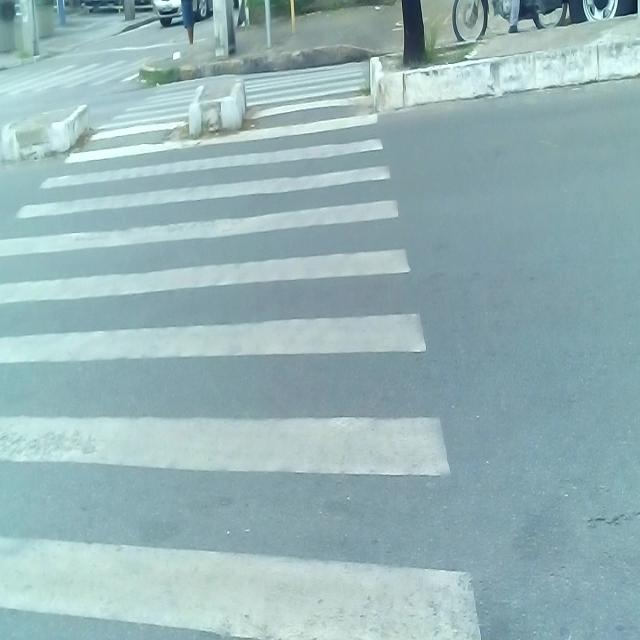crosswalk: (0, 55, 490, 640)
